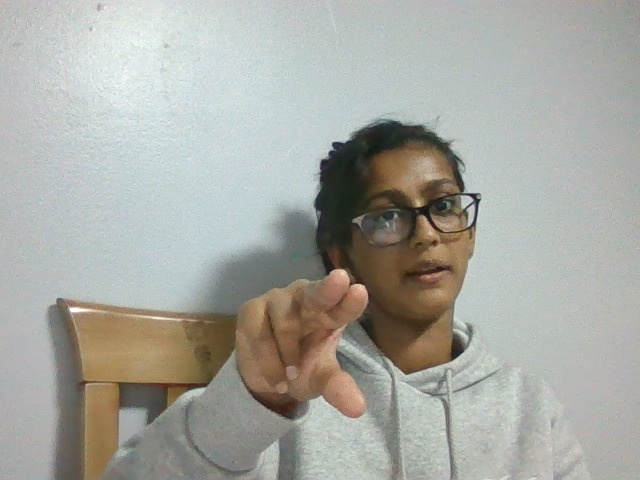No: (231, 263, 377, 426)
